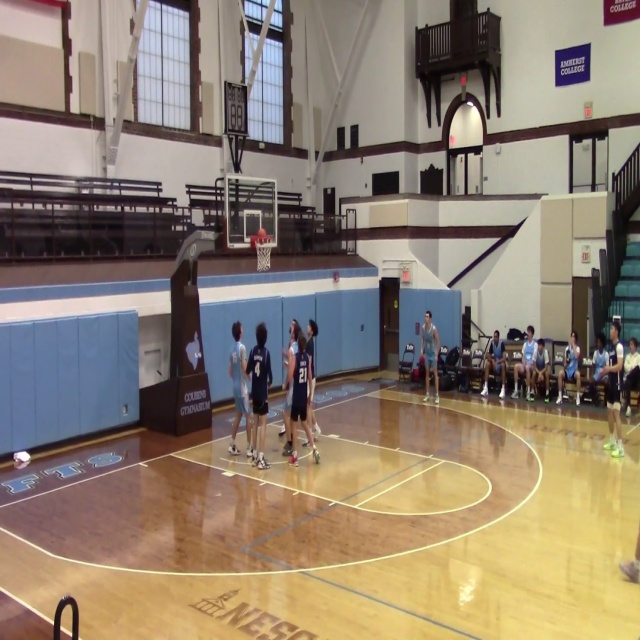Basketball: (250, 228, 270, 248), (13, 451, 31, 464), (256, 228, 267, 239)
